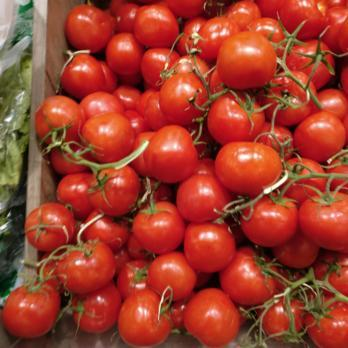Tomato: (66, 0, 348, 345), (2, 281, 67, 334), (24, 203, 79, 248), (35, 90, 79, 144)
